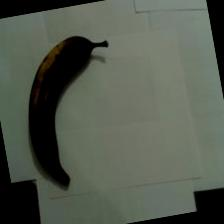Banana Rotten: (1, 28, 102, 200)
